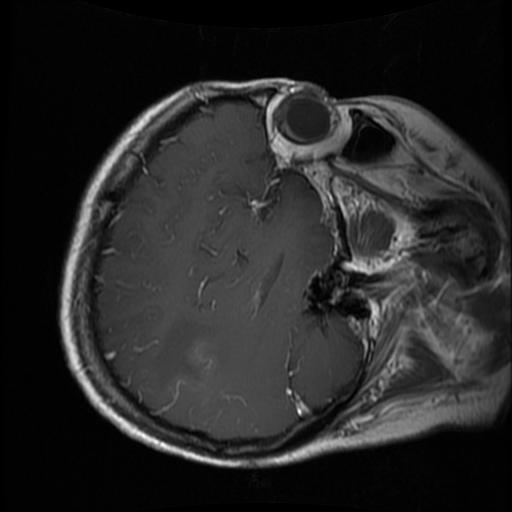glioma: (148, 317, 218, 398)
